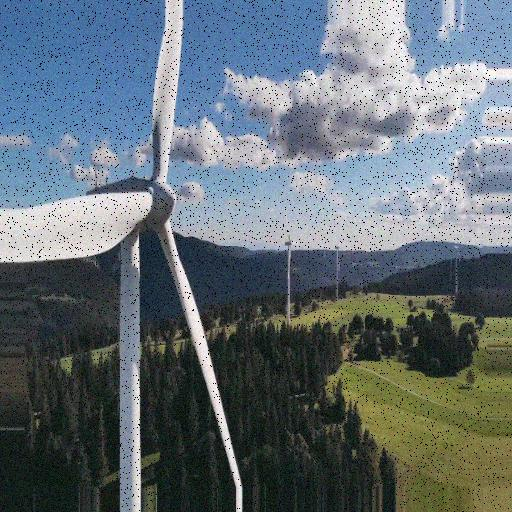wind turbine: (1, 1, 245, 488)
